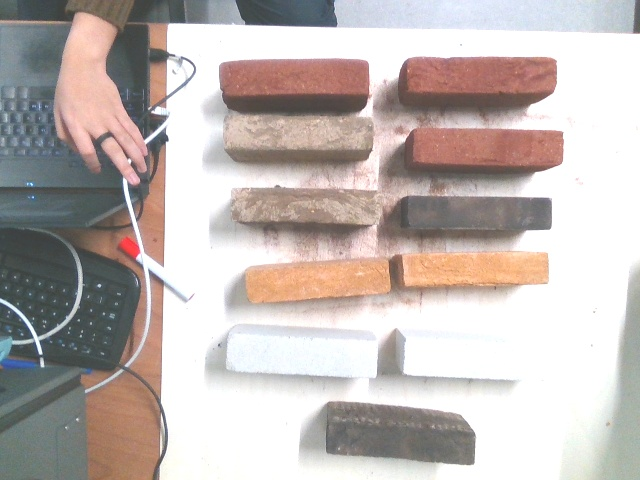brick-side: (325, 415, 476, 465), (227, 332, 377, 378), (404, 337, 554, 380), (221, 57, 370, 98), (242, 259, 391, 300), (419, 125, 561, 167), (405, 56, 554, 94), (224, 116, 372, 150), (405, 251, 547, 286), (405, 195, 553, 228), (236, 188, 378, 221)
